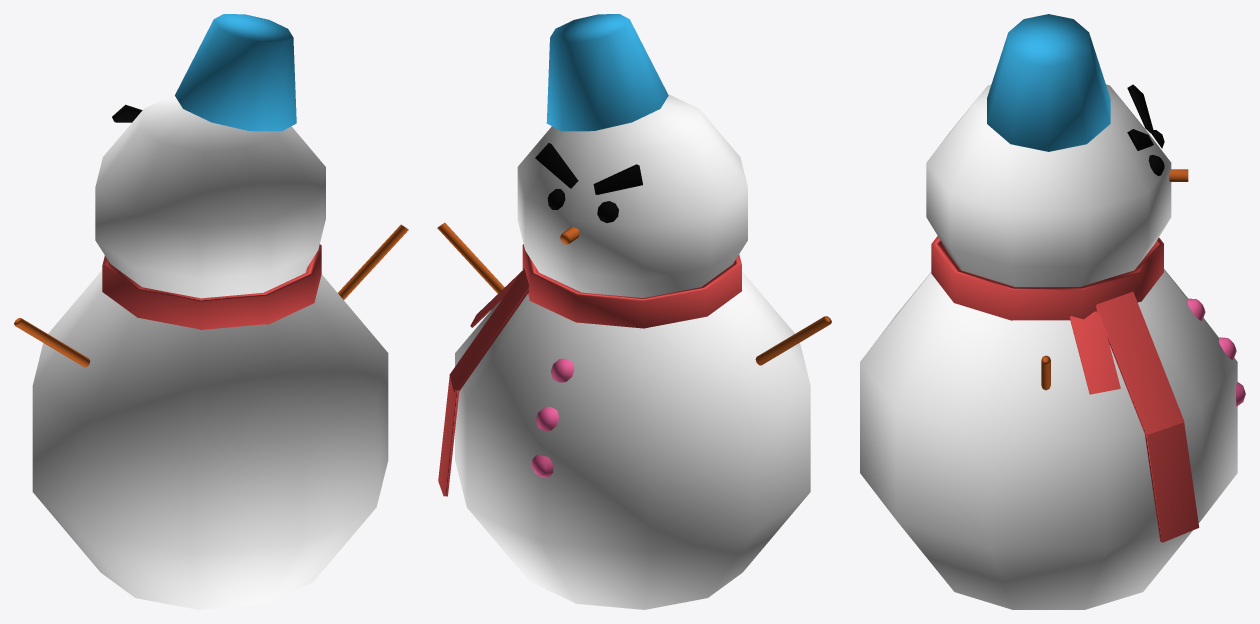
File: yuki.ico.obj
3 renders of one model, left to right at view 1: azimuth 30°, elevation 25°; view 2: azimuth 150°, elevation 25°; view 3: azimuth 270°, elevation 25°, orthographic. The views are drawn at different scales.
Bounding box in the file's own units: 3.45 × 4.74 × 2.82.
Materials: 1 (1 with a texture image).
